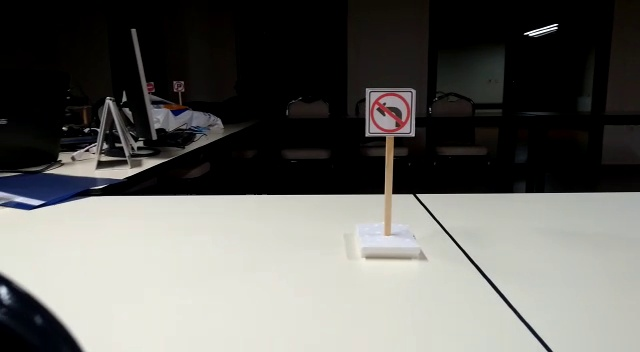sola_donulmez: (370, 96, 412, 134)
